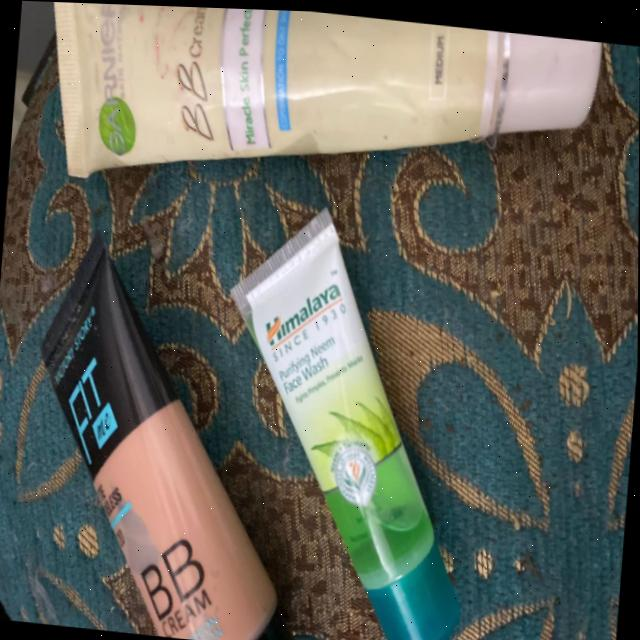bb cream: (34, 1, 617, 235), (3, 223, 327, 640)
serum: (201, 207, 497, 640)
